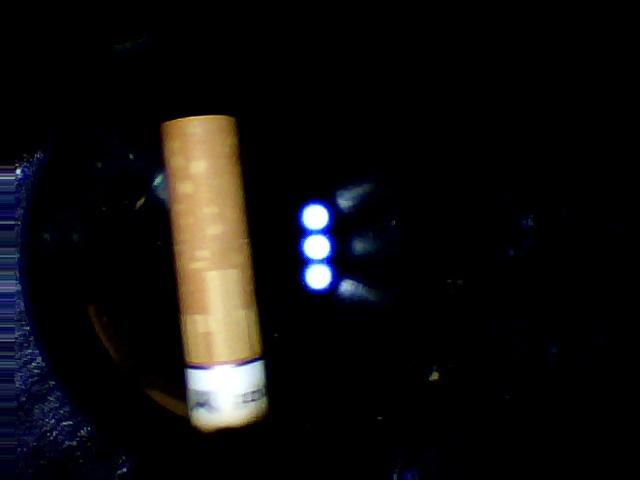megot: (150, 108, 283, 443)
